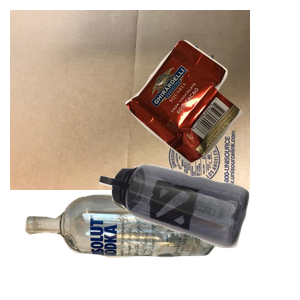cardboard: (10, 10, 250, 190)
glass: (22, 192, 234, 300)
plastic: (97, 162, 300, 300)
trash: (123, 37, 300, 192)
